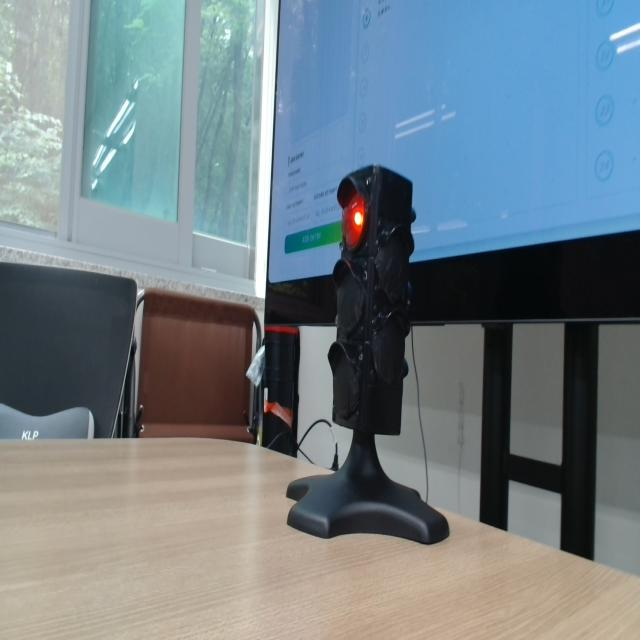red_light: (342, 193, 365, 248)
